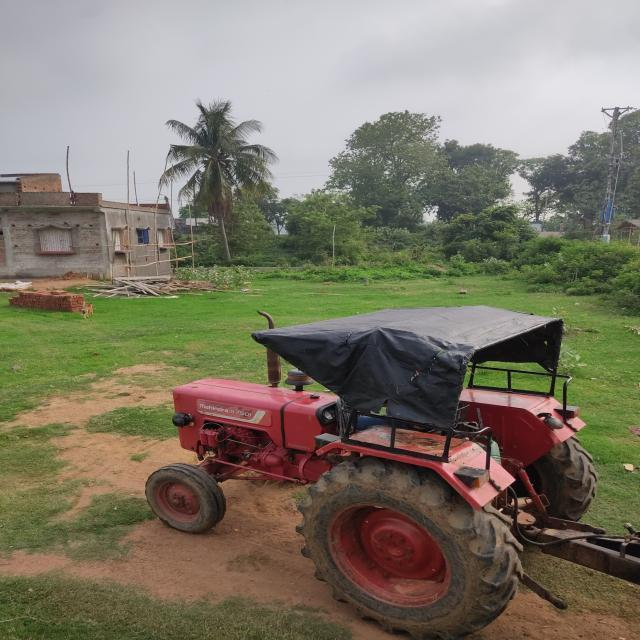tractor_back: (138, 298, 640, 640)
